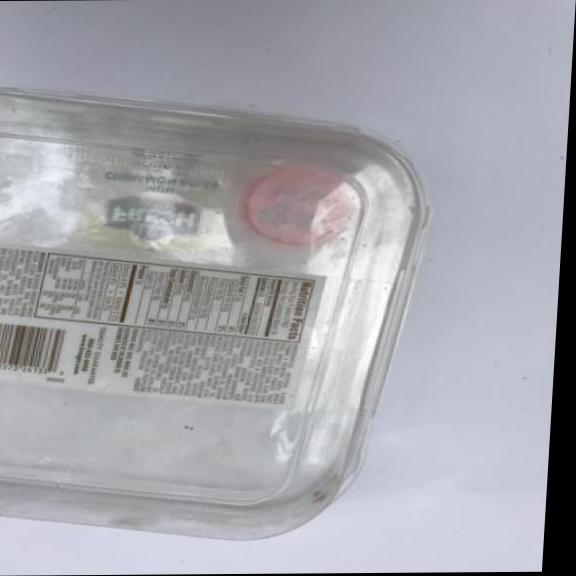Plastik: (0, 69, 446, 552)
